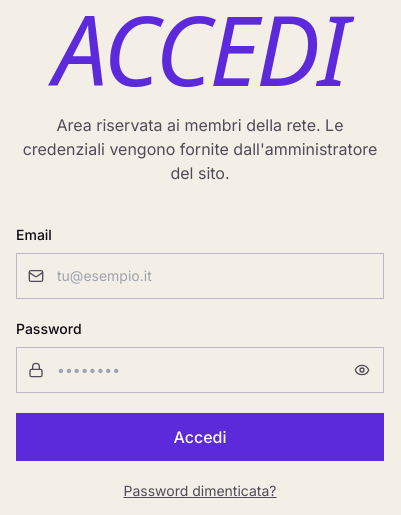
Test: Login › disables button while loading
Type "test@test.com" into the field with placeholder "tu@esempio.it" at (200,276), box [16, 253, 384, 299]
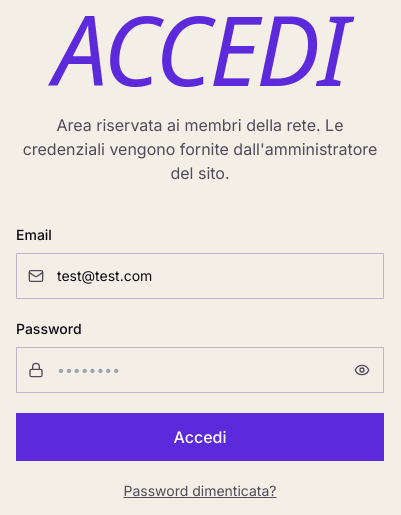
Type "pass123" into the password field with placeholder "••••••••" at (200,370), box [16, 347, 384, 393]
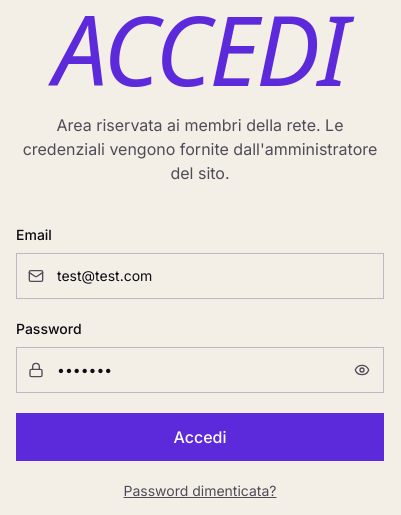
Click the button "Accedi" at (200,437), box [16, 413, 384, 461]
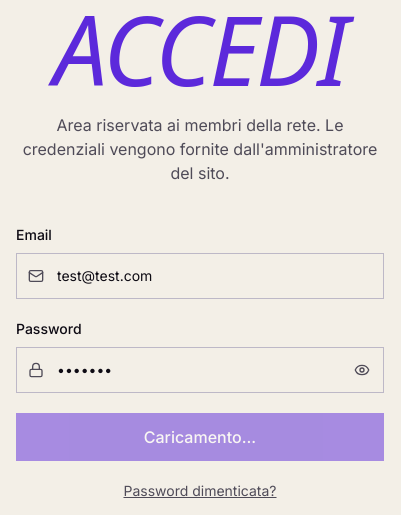
Check: the button "Caricamento..." is shown, box [16, 413, 384, 461]
